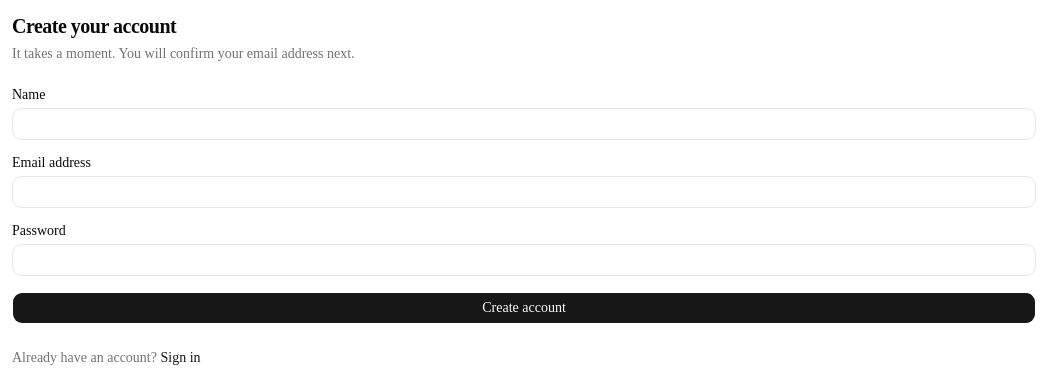
it: SignUpForm › registers with normalized values and points the visitor at their inbox
Type " Ada Lovelace " into the field labelled "Name" at (524, 124), box left=12, top=108, right=1036, bottom=140
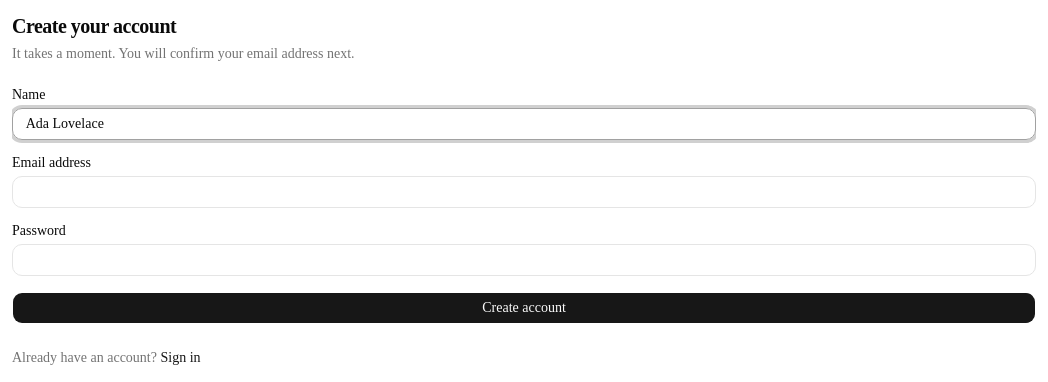
Type "  Ada@Example.COM " into the field labelled "Email address" at (524, 192), box left=12, top=176, right=1036, bottom=208
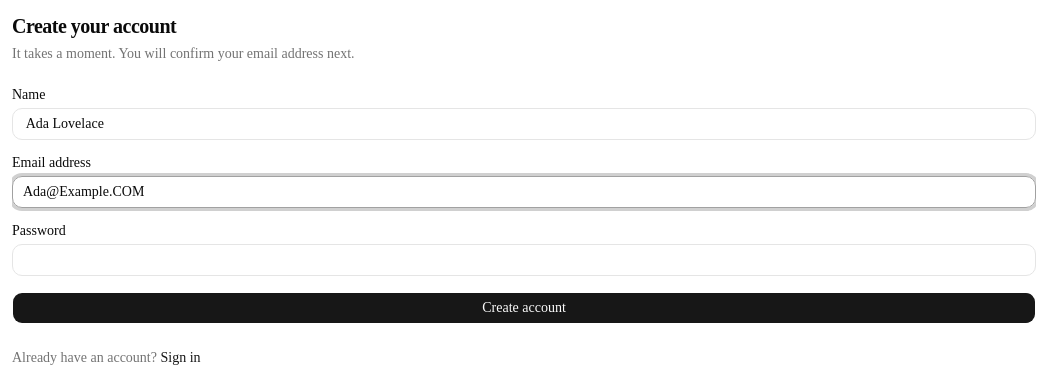
Type "a long enough password" into the password field labelled "Password" at (524, 260), box left=12, top=244, right=1036, bottom=276
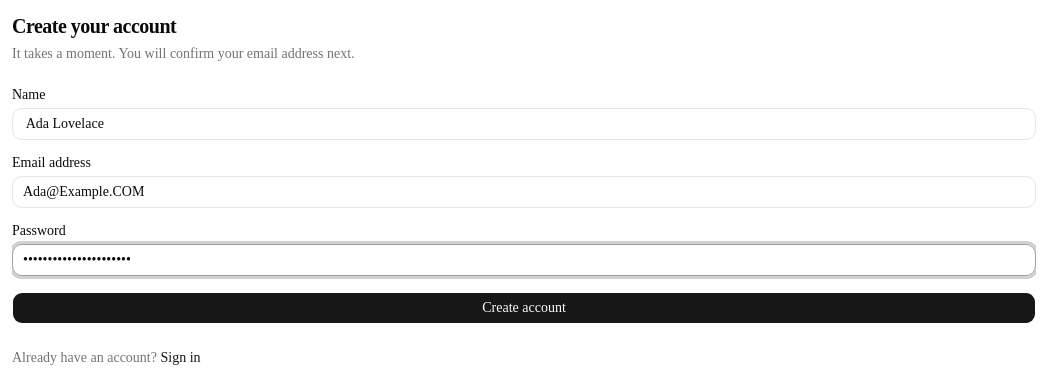
Click the button "Create account" at (524, 308), box left=12, top=292, right=1036, bottom=324
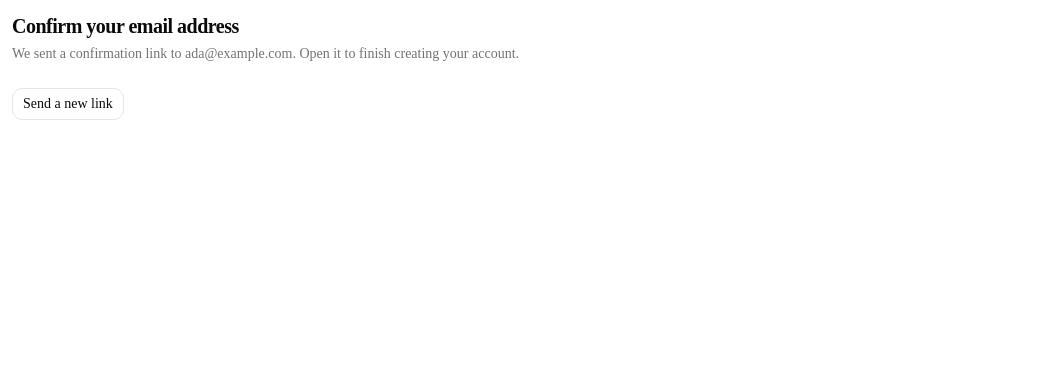
Result: the heading "Confirm your email address" is shown at left=12, top=15, right=239, bottom=37
Result: the text "We sent a confirmation link to ada@example.com. Open it to finish creating your account." is shown at left=12, top=46, right=519, bottom=61
